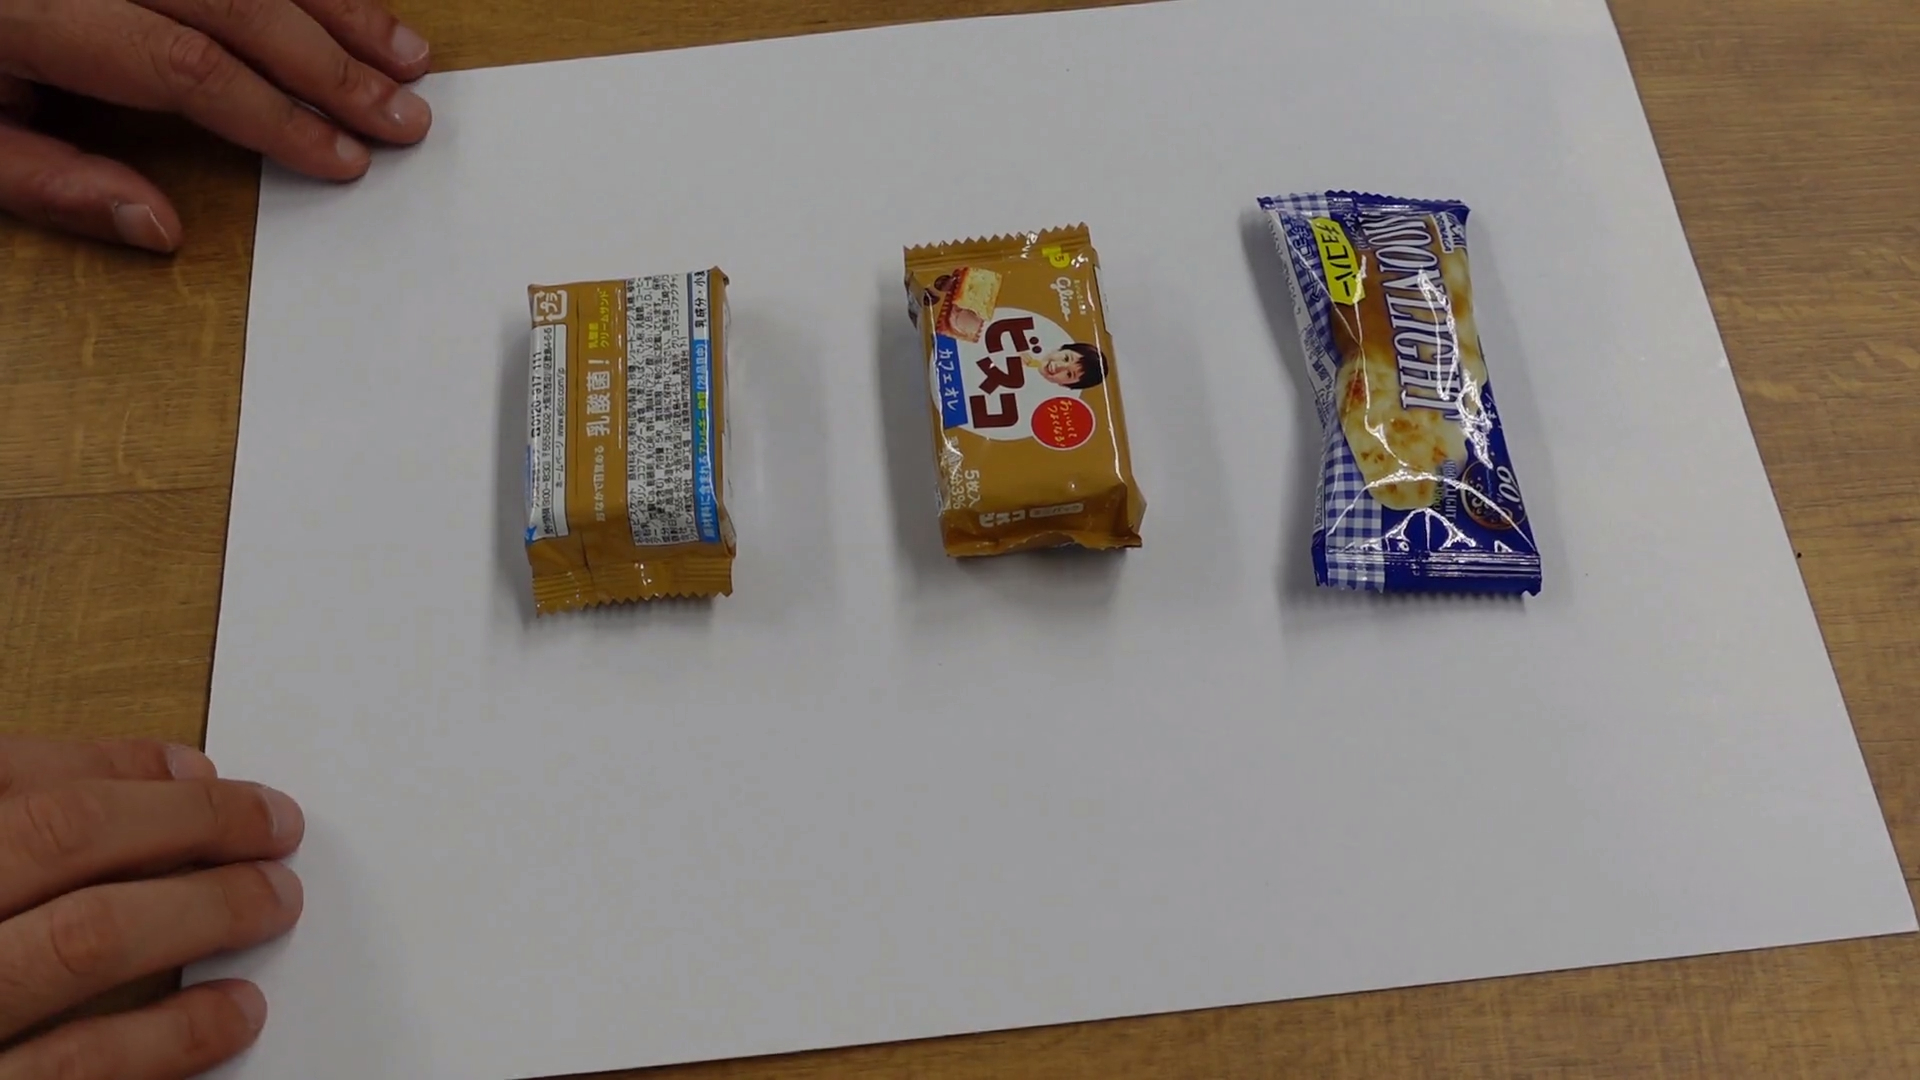BISCO_CafeAuLet: (901, 227, 1139, 549), (527, 282, 742, 613)
